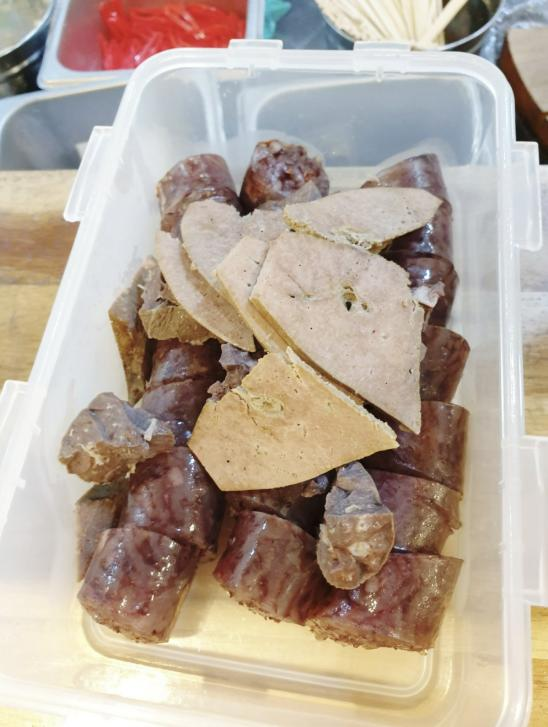Lunch Box: (0, 41, 547, 726)
